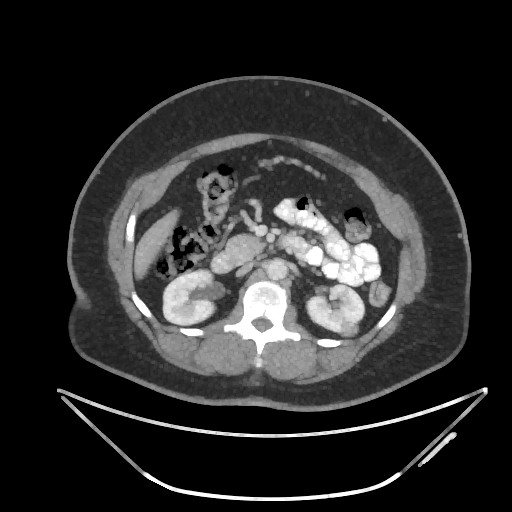Lesion: (339, 321, 360, 336)
